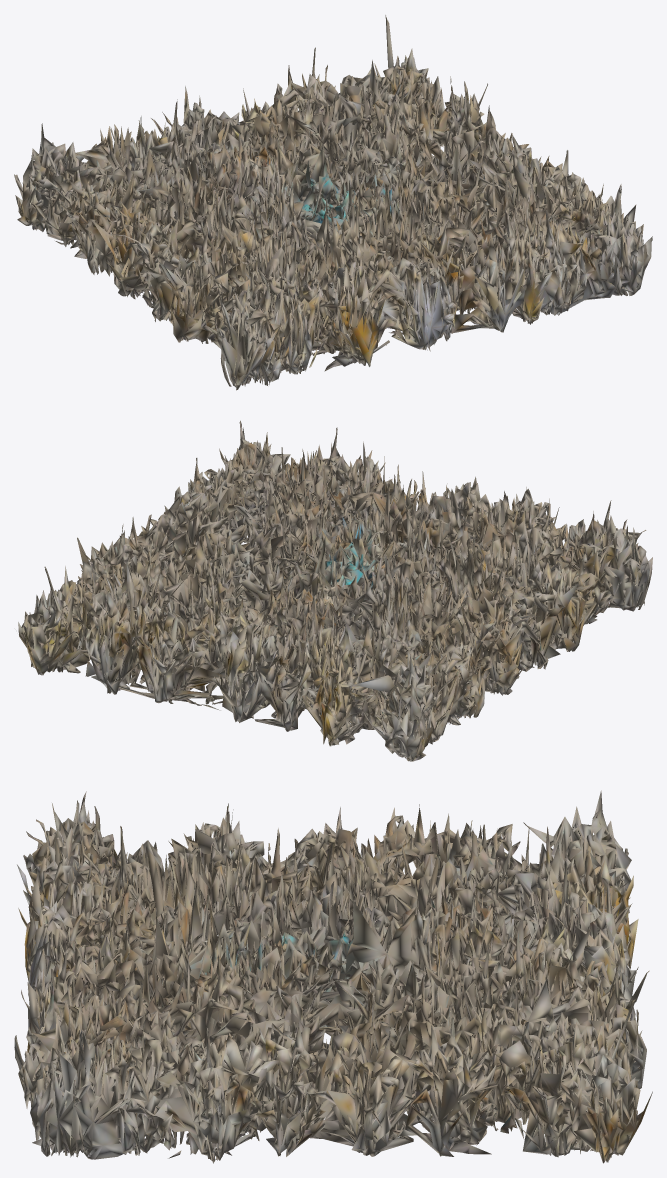
File: Meshy_AI_Verdant_Symmetry_1115233356_texture.glb
3 renders of one model, top to bottom at view 1: azimuth 30°, elevation 25°; view 2: azimuth 150°, elevation 25°; view 3: azimuth 270°, elevation 25°, orthographic. The views are drawn at different scales.
Bounding box in the file's own units: 1.93 × 0.5145 × 1.95.
1 material, 1 textured.
